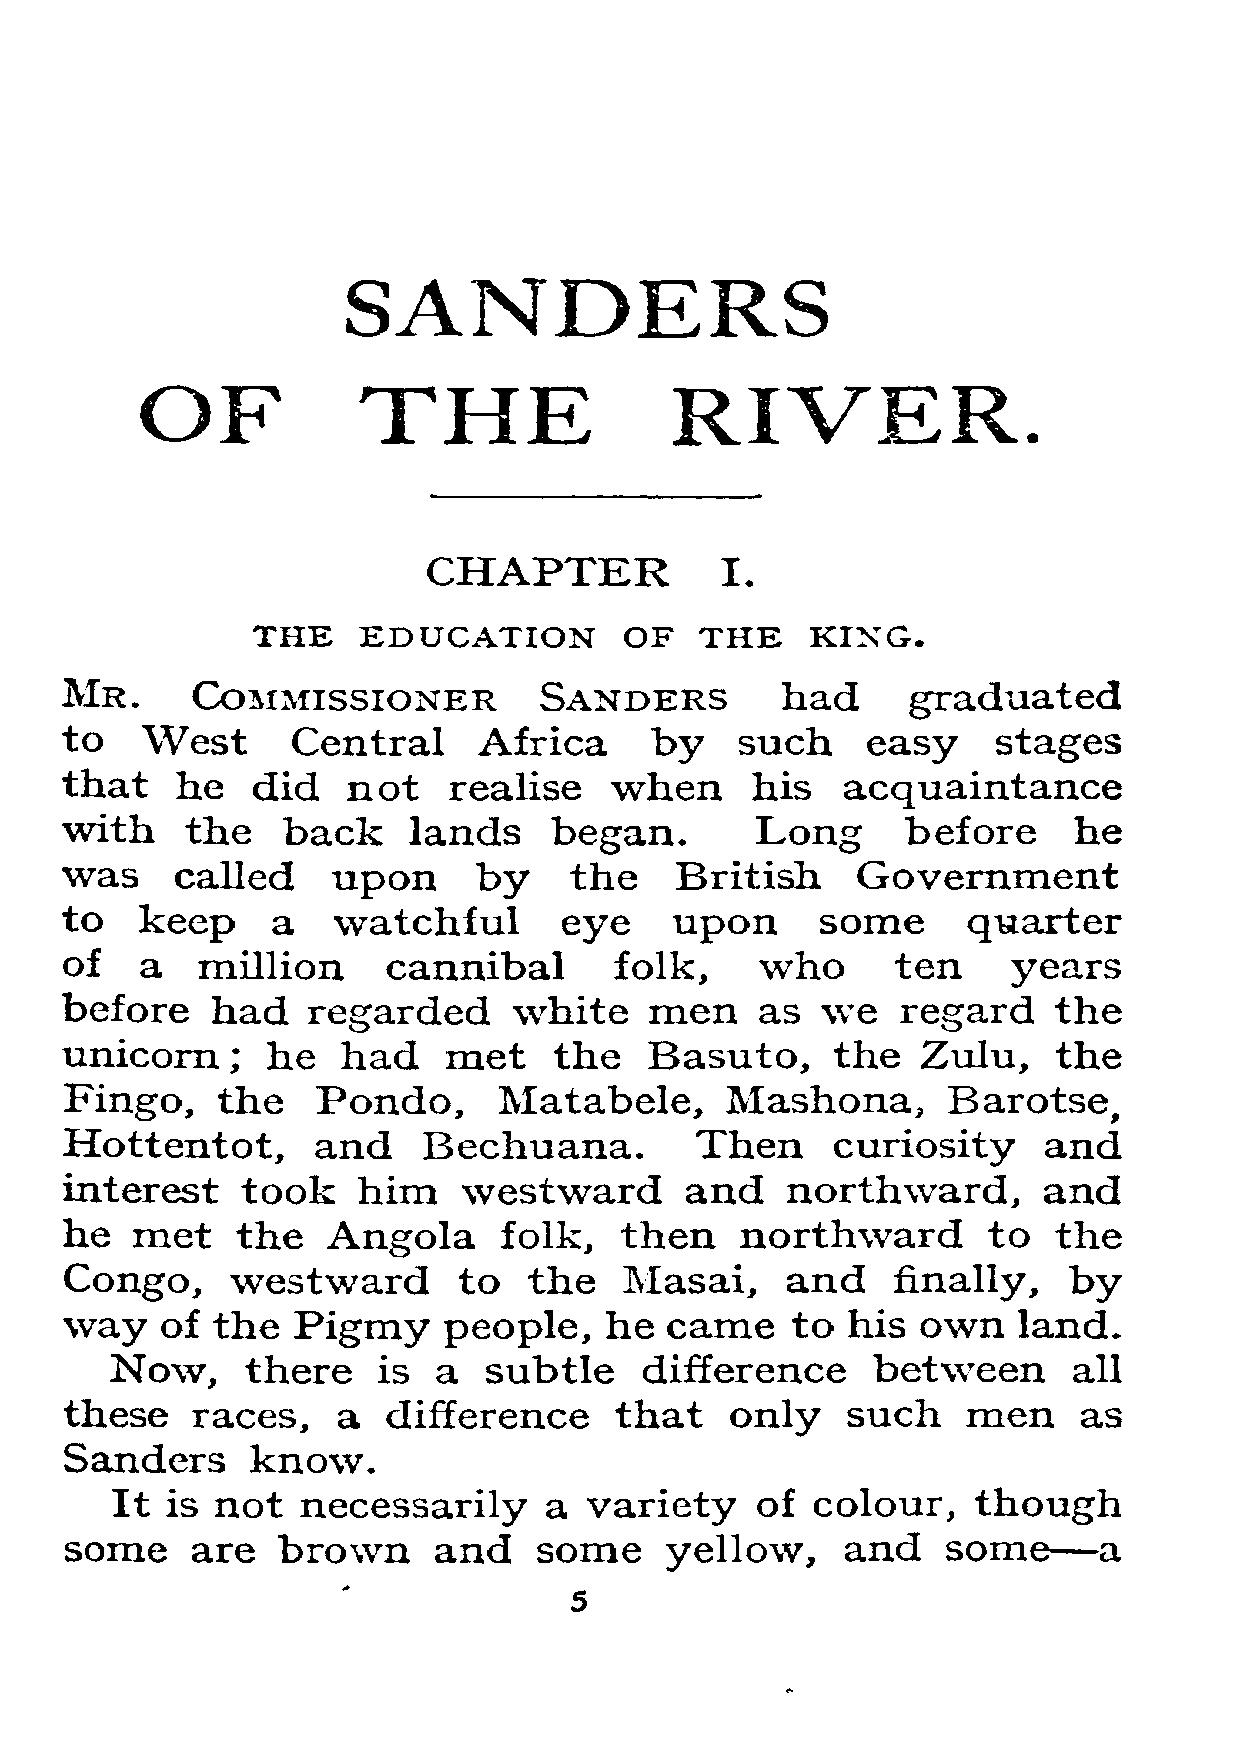chapter: (132, 272, 1040, 450), (246, 554, 929, 650)
content: (56, 671, 1126, 1576)
content_pagenumber: (564, 1586, 593, 1616)
